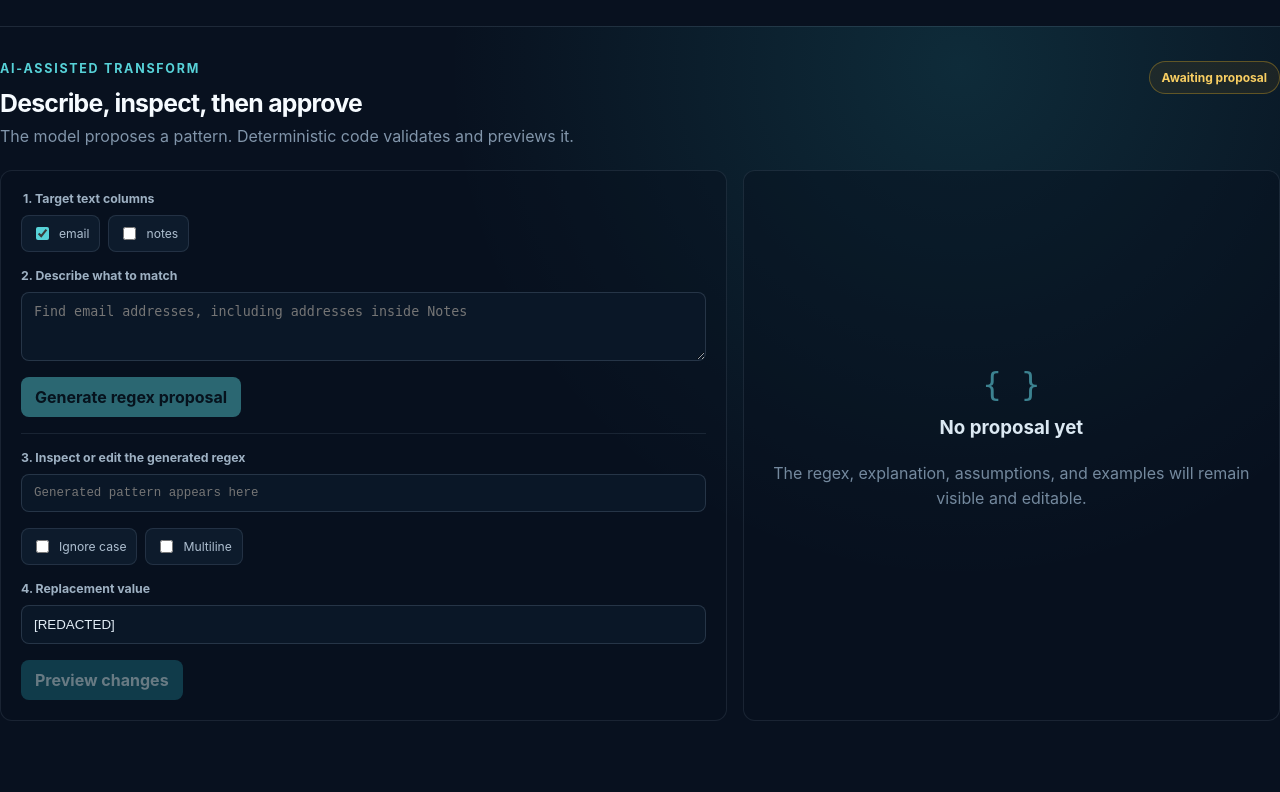
Test: TransformationStudio › drives a proposal through preview, approval, and download
This screenshot has width=1280, height=792.
In the text box labelled "2. Describe what to match": coordinates (363, 326) [21,292,706,361], type "Find email addresses"
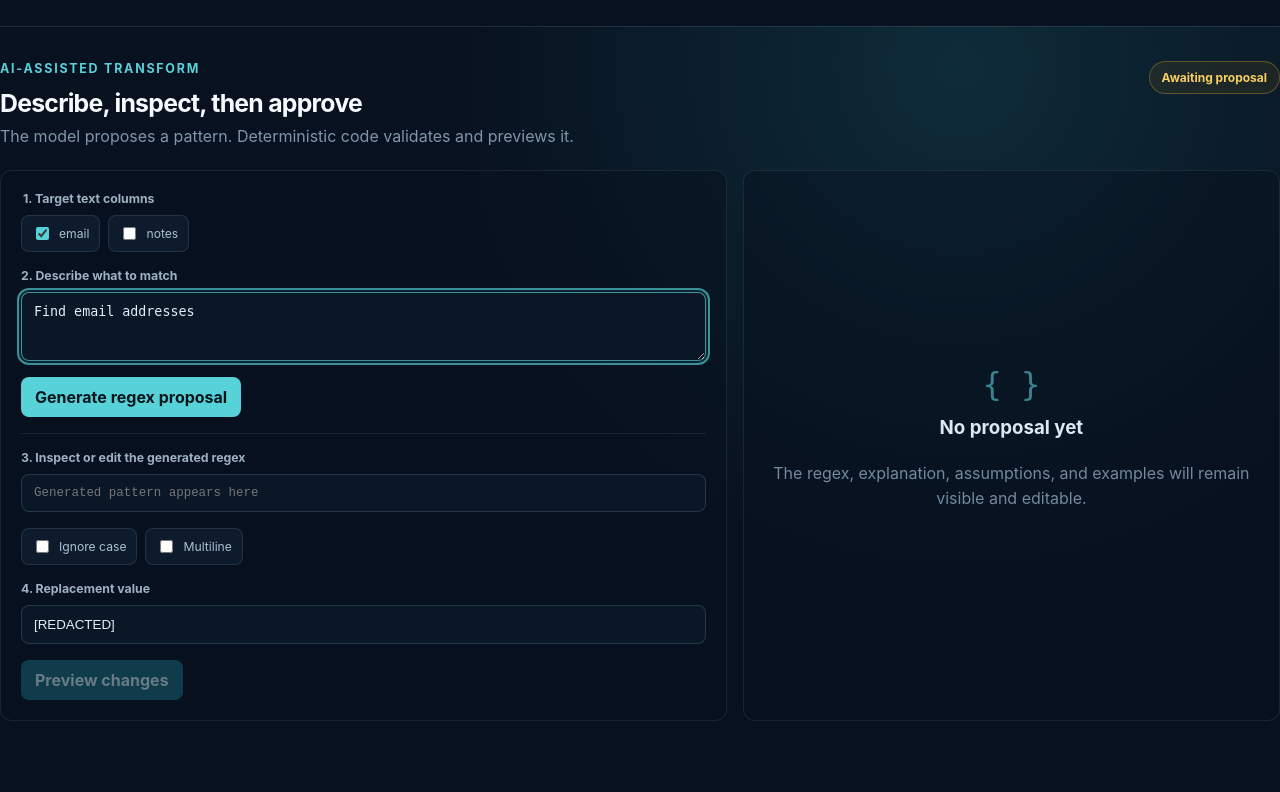
Click the button "Generate regex proposal": coordinates (131, 397) [21,377,241,417]
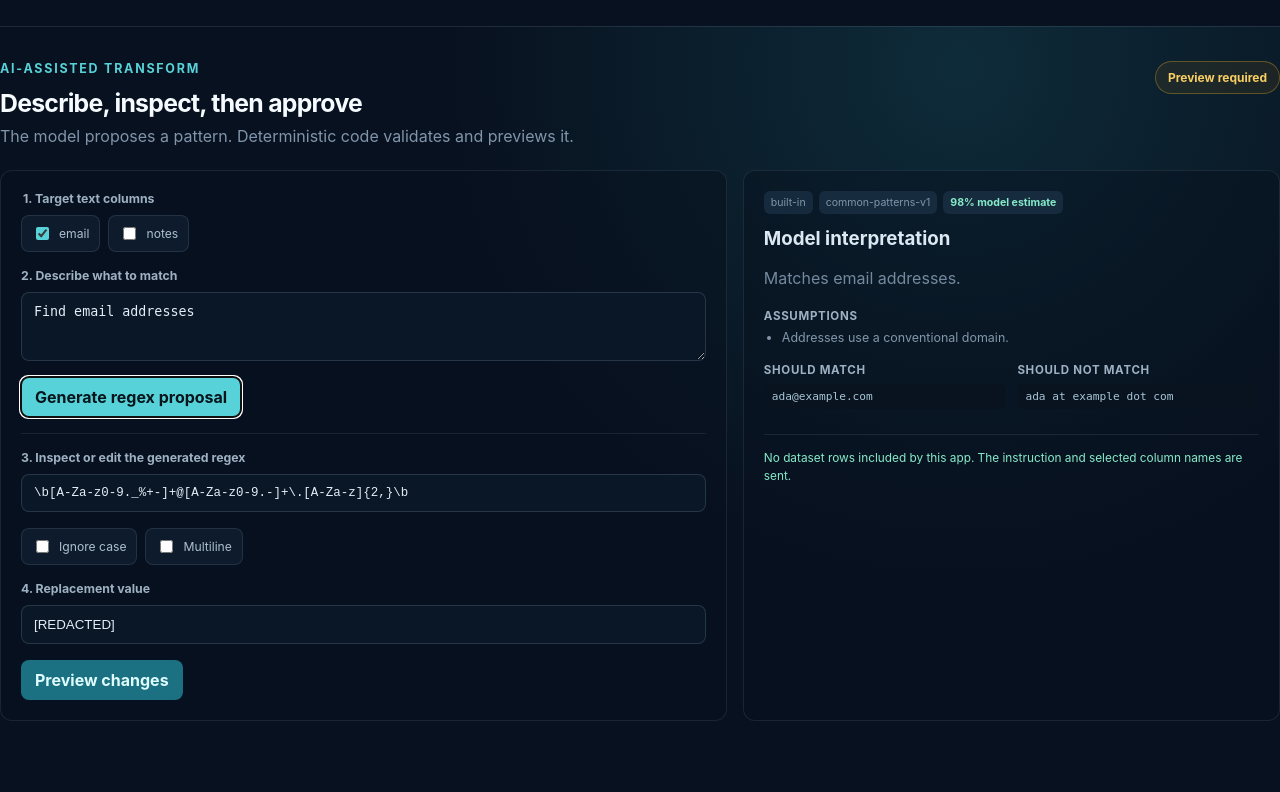
Result: the field showing "\\b[A-Za-z0-9._%+-]+@[A-Za-z0-9.-]+\\.[A-Za-z]{2,}\\b" is shown at [21,474,706,512]
Result: the text "No dataset rows included by this app" is shown at [764,451,1242,483]
Result: the text "Preview required" is shown at [1155,61,1279,94]
Click the button "Preview changes": coordinates (102, 680) [21,660,183,700]
(page scrolled)
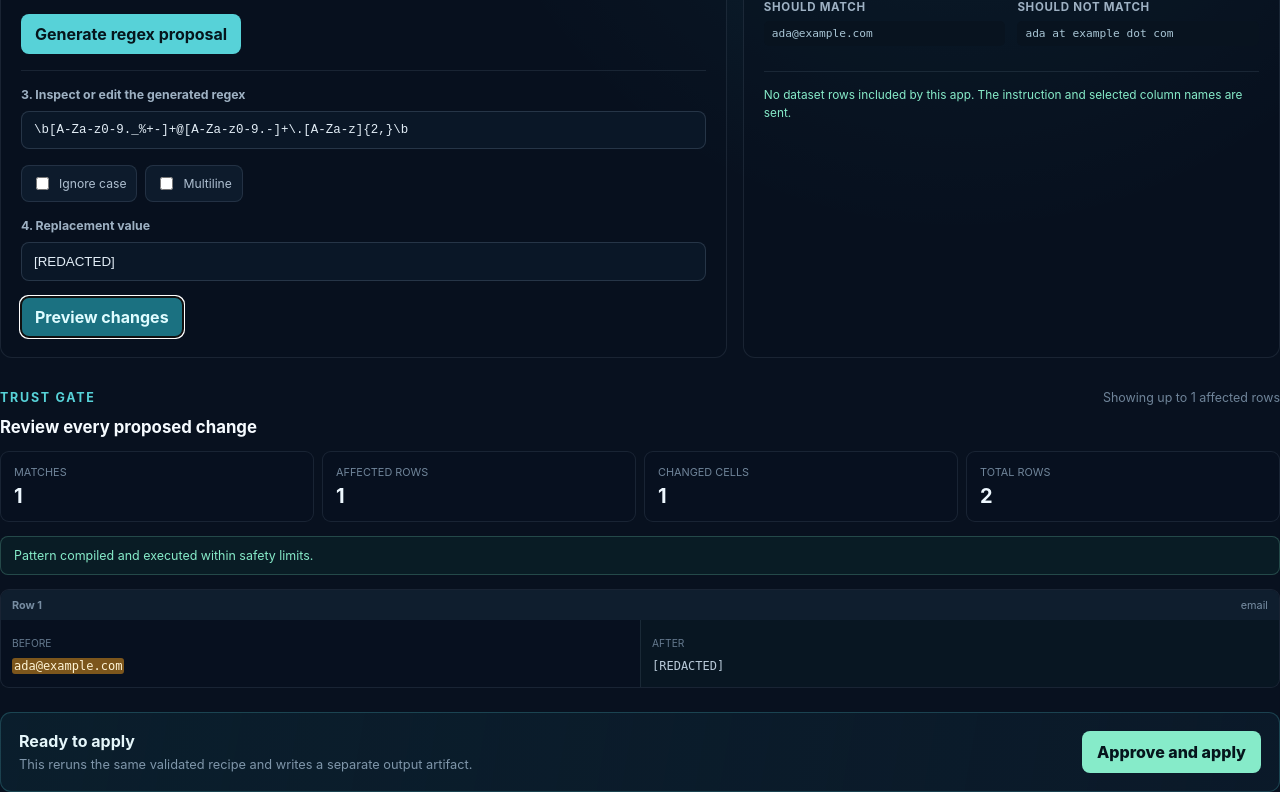
Result: the text "ada@example.com" below "Before" is shown at [14,659,122,673]
Result: the text "[REDACTED]" is shown at [652,659,724,673]
Click the button "Approve and apply": coordinates (1172, 752) [1082,731,1261,773]
(page scrolled)
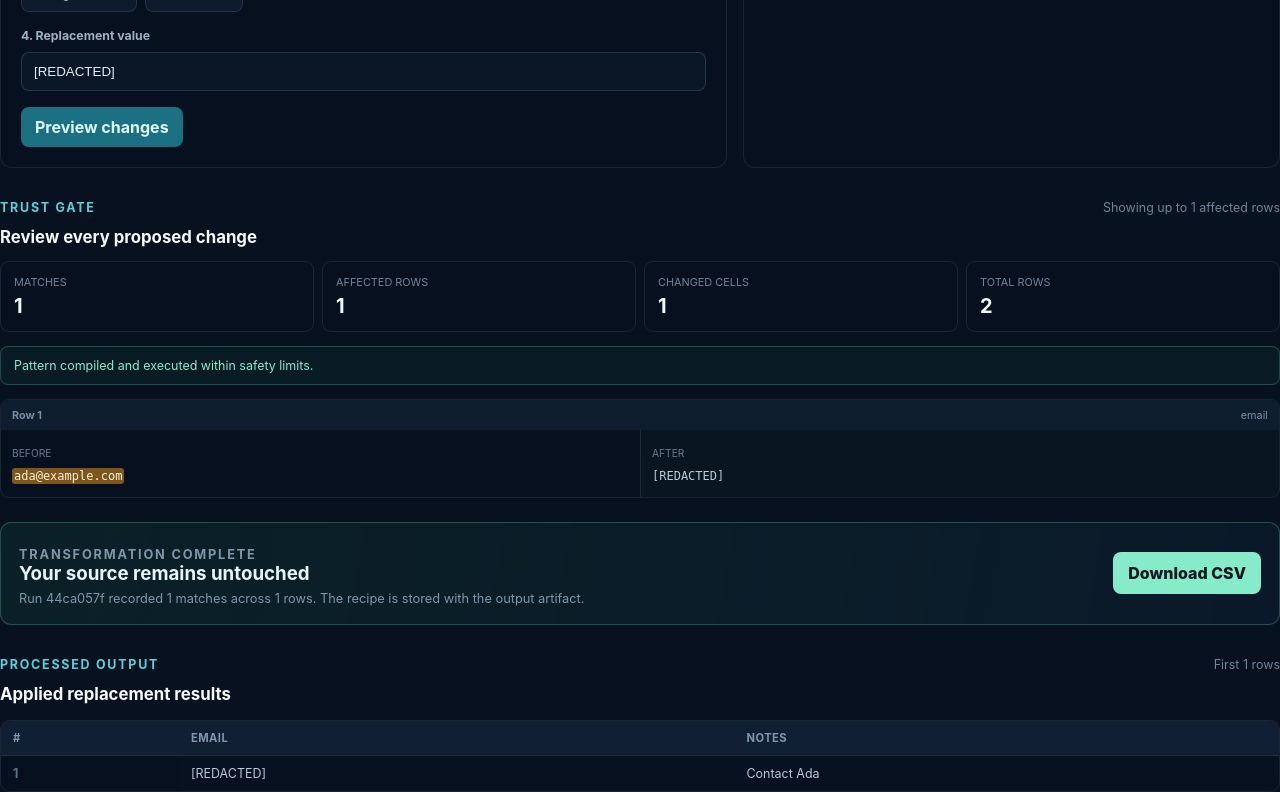
Result: the heading "Applied replacement results" is shown at [0,684,231,704]
